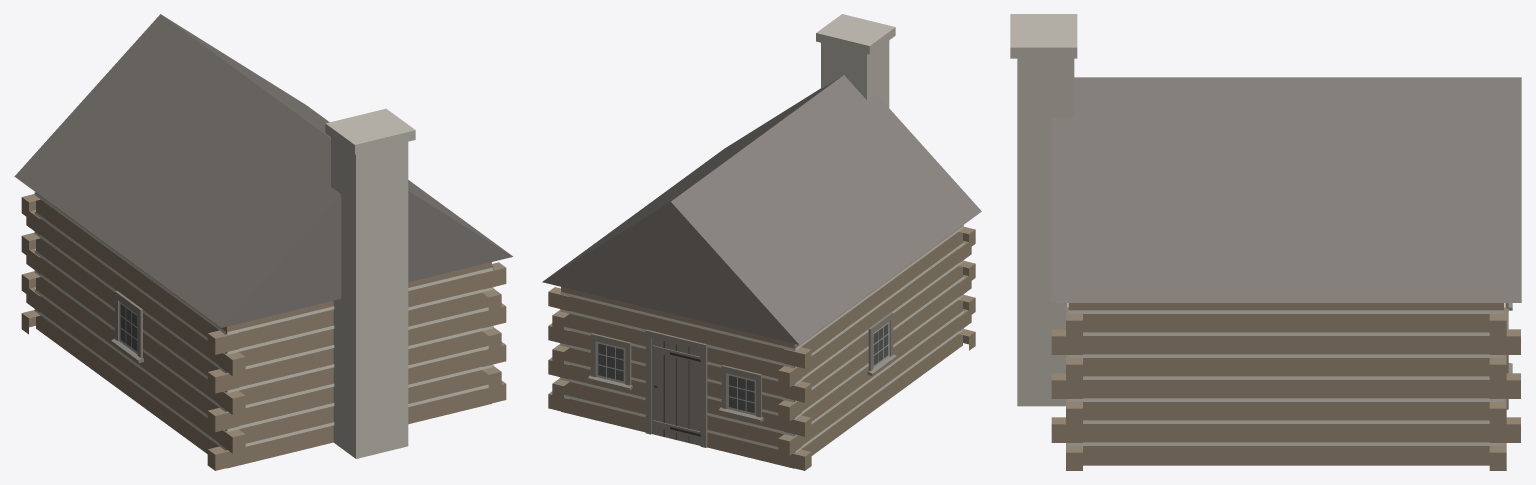
File: recon_1835_west_050__inferred_1835.glb
3 renders of one model, left to right at view 1: azimuth 30°, elevation 25°; view 2: azimuth 150°, elevation 25°; view 3: azimuth 270°, elevation 25°, orthographic. The views are drawn at different scales.
Parts seen in each view (by area): view 1: recon_1835_west_050__inferred_1835; view 2: recon_1835_west_050__inferred_1835; view 3: recon_1835_west_050__inferred_1835.
Boxes of the visible parts, box(x1,y1,x2,y2) form: recon_1835_west_050__inferred_1835: box(14, 14, 513, 470); recon_1835_west_050__inferred_1835: box(542, 14, 981, 470); recon_1835_west_050__inferred_1835: box(1010, 14, 1521, 470).
Bounding box in the file's own units: 5.38 × 5.58 × 7.17.
